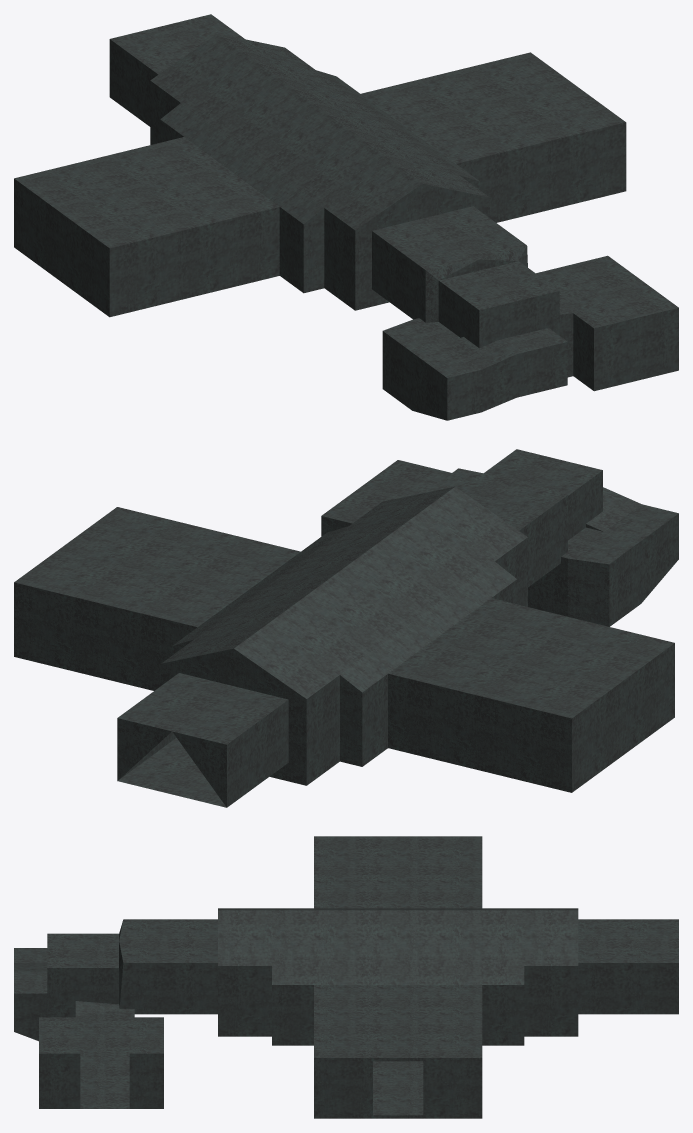
The model's file is TeleporterRoomShell.fbx.
The picture shows the model from 3 angles, top to bottom: view 1: azimuth 30°, elevation 25°; view 2: azimuth 150°, elevation 25°; view 3: azimuth 270°, elevation 25°; orthographic projection. The views are drawn at different scales.
Parts seen in each view (by area): view 1: Teleporter Room Shell; view 2: Teleporter Room Shell; view 3: Teleporter Room Shell.
Boxes of the visible parts, x1=… form: Teleporter Room Shell: x1=14, y1=14, x2=678, y2=420; Teleporter Room Shell: x1=14, y1=449, x2=678, y2=807; Teleporter Room Shell: x1=14, y1=836, x2=678, y2=1118.
Bounding box in the file's own units: 12448 × 3459 × 15782.
Materials: 1 (1 with a texture image).
